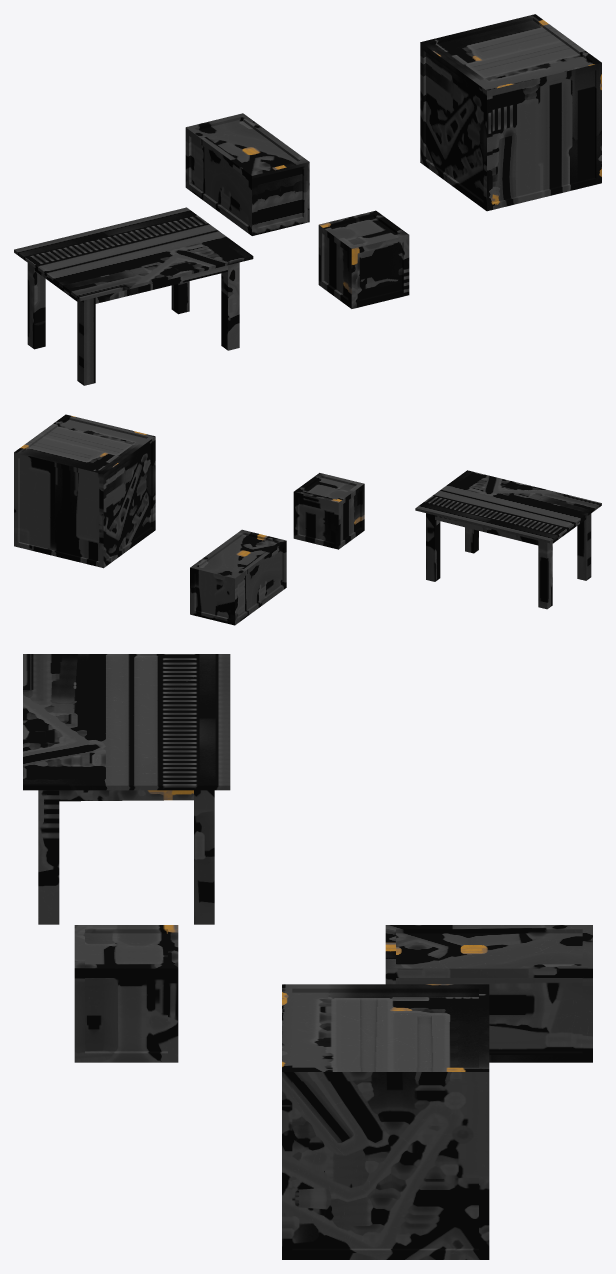
The model's file is Wooden_Pack.fbx.
3 renders of one model, top to bottom at view 1: azimuth 30°, elevation 25°; view 2: azimuth 150°, elevation 25°; view 3: azimuth 270°, elevation 25°, orthographic. The views are drawn at different scales.
Visible parts, largest first — view 1: Box_3, Table, Box_2, Box_1; view 2: Box_3, Table, Box_2, Box_1; view 3: Box_3, Table, Box_2, Box_1.
Boxes of the visible parts, x1,y1,x2,y2 form: Box_3: (420,14,601,211); Table: (14,207,253,385); Box_2: (185,113,309,235); Box_1: (318,210,409,308); Box_3: (14,414,155,568); Table: (415,470,601,609); Box_2: (190,529,286,625); Box_1: (293,473,364,549); Box_3: (282,984,489,1259); Table: (23,654,230,924); Box_2: (385,925,592,1062); Box_1: (74,925,178,1062).
Bounding box in the file's own units: 2100 × 400 × 1100.
